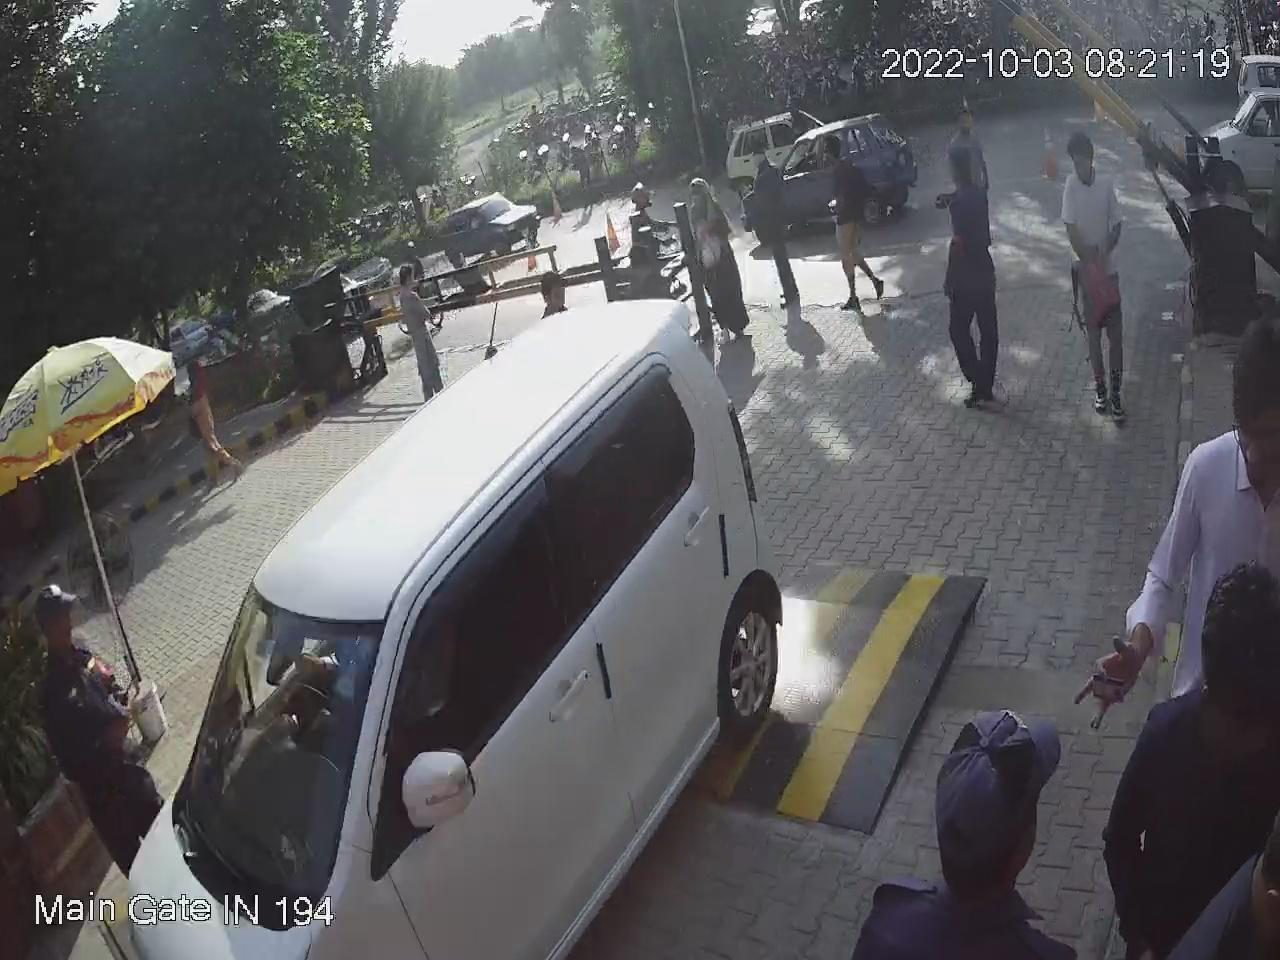windshield: (163, 580, 386, 920)
